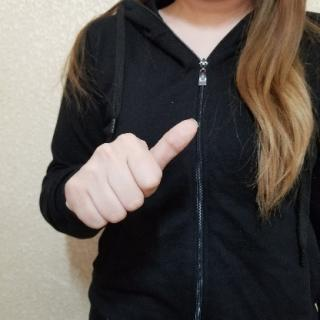ALIF: (61, 113, 209, 232)
